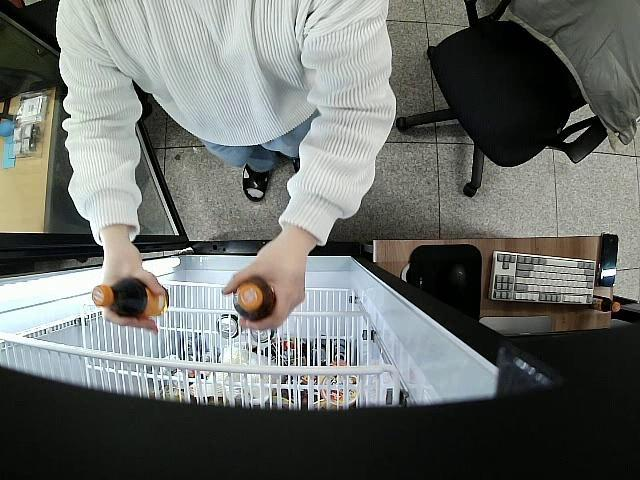17_vita500: (92, 276, 171, 320), (230, 276, 279, 322)
